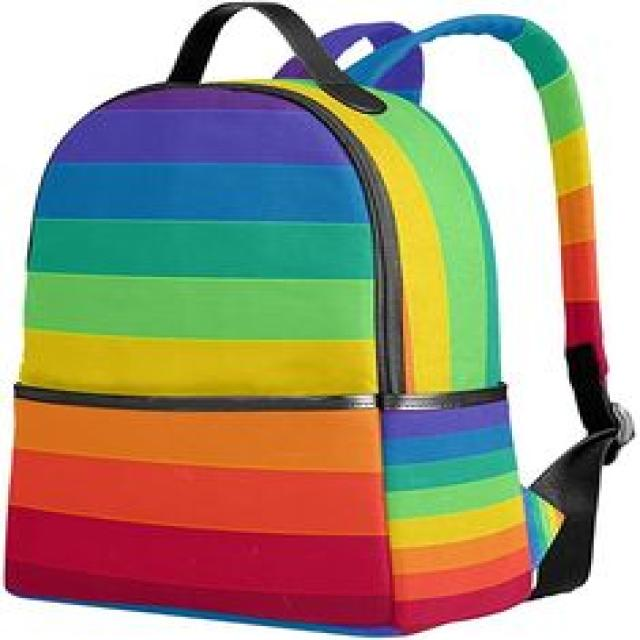backpack: (1, 1, 633, 636)
